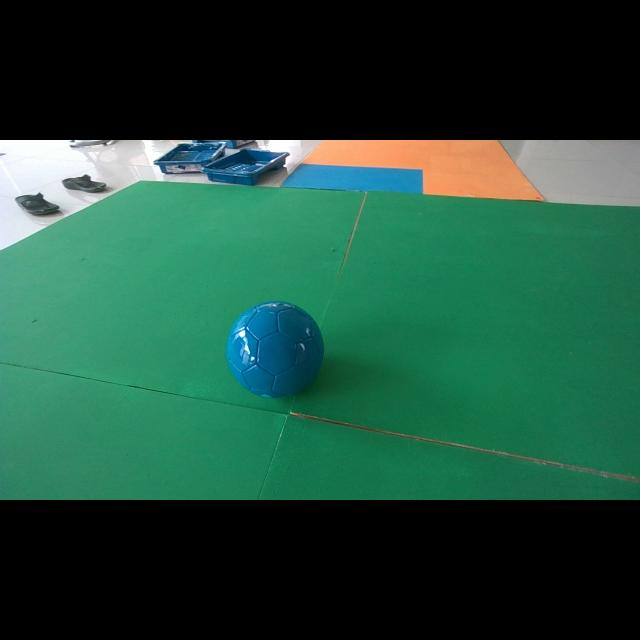B: (226, 301, 325, 398)
